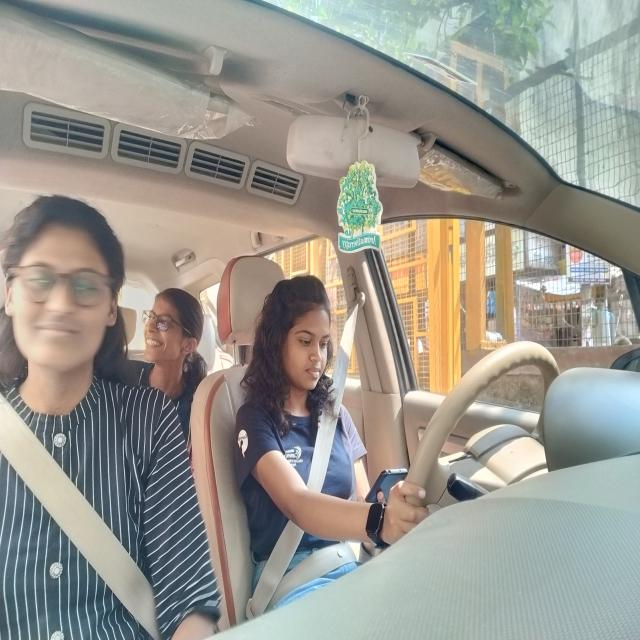mobile: (371, 460, 407, 495)
person: (11, 202, 125, 373), (256, 281, 338, 392), (146, 288, 194, 370)
